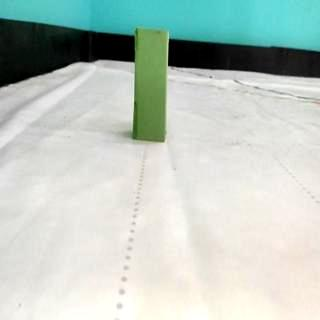greenbox: (132, 24, 170, 142)
